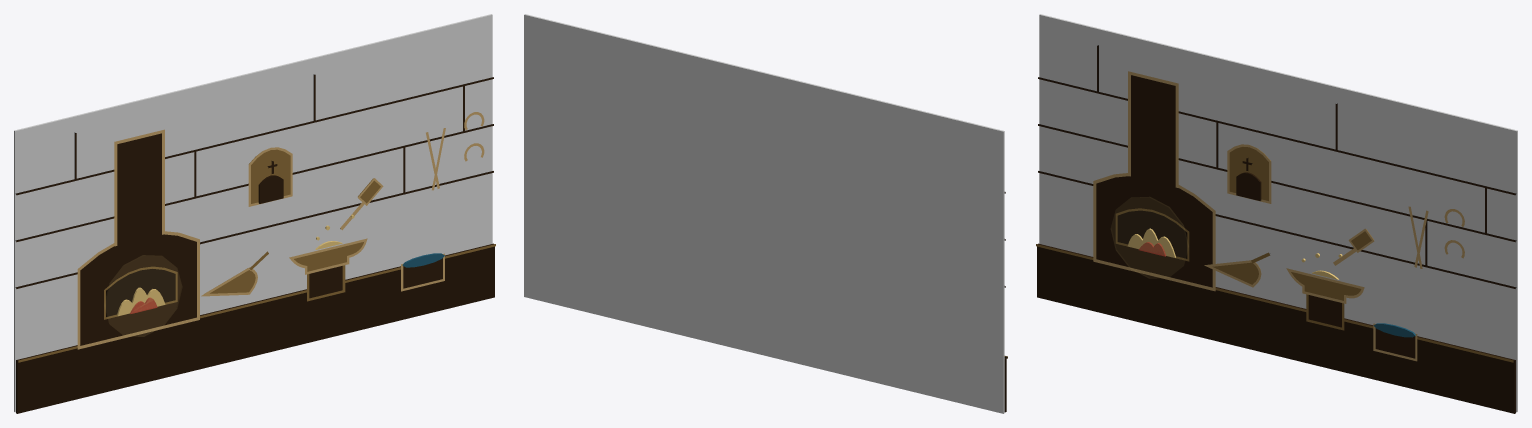
Rendered from loc-kuznya-obiteli.glb.
3 views of the same model, side by side, from view 1: azimuth 30°, elevation 25°; view 2: azimuth 150°, elevation 25°; view 3: azimuth 330°, elevation 25° (orthographic).
Parts seen in each view (by area): view 1: loc-kuznya-obiteli; view 2: loc-kuznya-obiteli; view 3: loc-kuznya-obiteli.
Part boxes in pixels (box(x1,y1,x2,y2)): loc-kuznya-obiteli: box(14, 14, 495, 413); loc-kuznya-obiteli: box(524, 14, 1007, 413); loc-kuznya-obiteli: box(1036, 14, 1517, 413).
Bounding box in the file's own units: 5.33 × 3 × 0.54.
